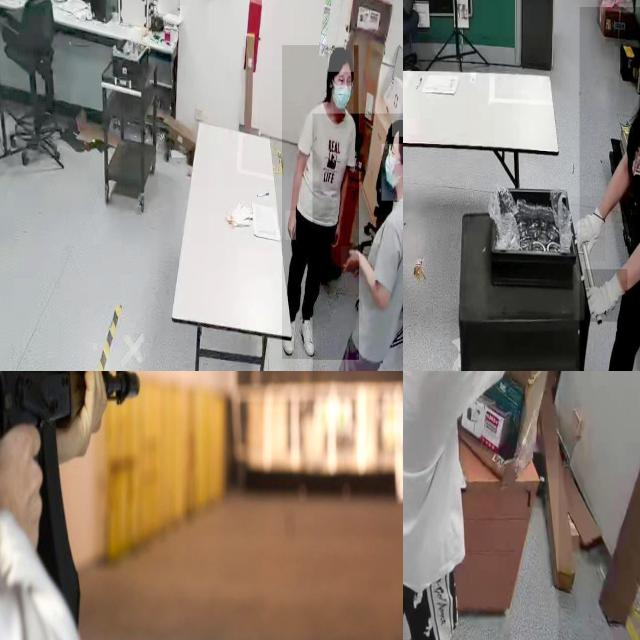face_mask: (381, 143, 403, 200), (332, 75, 354, 120)
hand_glove: (584, 269, 628, 323), (571, 196, 605, 262)
hand_noglove: (341, 246, 361, 274), (286, 210, 296, 240), (330, 222, 340, 248)
head_nohelmet: (328, 45, 354, 73), (392, 120, 403, 137)
person: (403, 371, 559, 640), (282, 45, 359, 360), (312, 113, 403, 371), (579, 7, 640, 371)
shoes: (298, 306, 318, 358)
